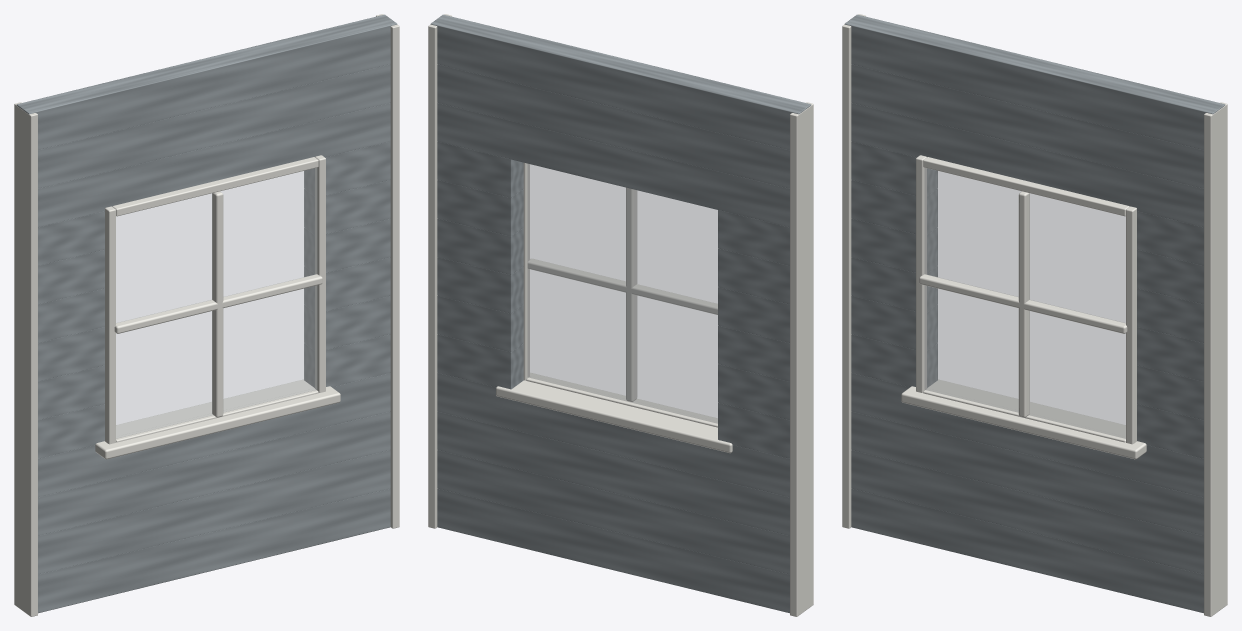
Rendered from paranormal-investigation-house-exterior-window-cb507aa6__26687.glb.
3 renders of one model, left to right at view 1: azimuth 30°, elevation 25°; view 2: azimuth 150°, elevation 25°; view 3: azimuth 330°, elevation 25°, orthographic.
Visible parts, largest first — view 1: exterior-window; view 2: exterior-window; view 3: exterior-window.
Part boxes in pixels (x1,y1,x2,y2): exterior-window: (14, 14, 399, 616); exterior-window: (428, 14, 813, 616); exterior-window: (842, 14, 1227, 616).
Size of the model in its own units: 2 by 2.61 by 0.2349.
Materials: 3 (1 with a texture image).
